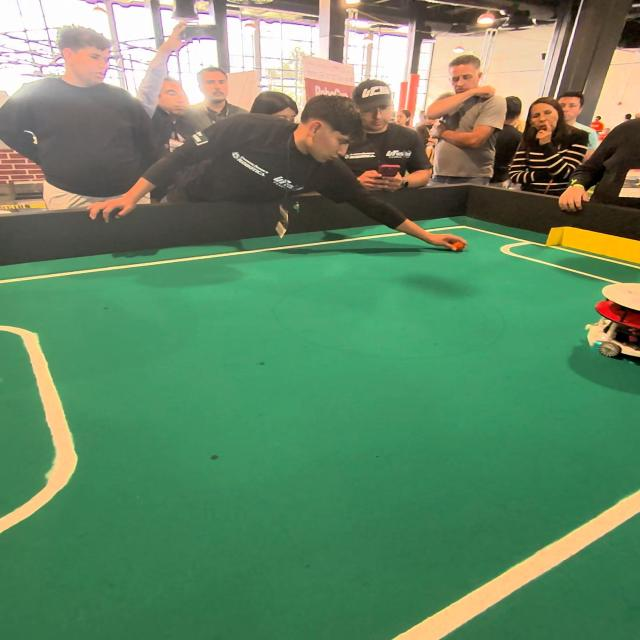Robot: (576, 266, 638, 380)
pelota: (451, 235, 469, 258)
